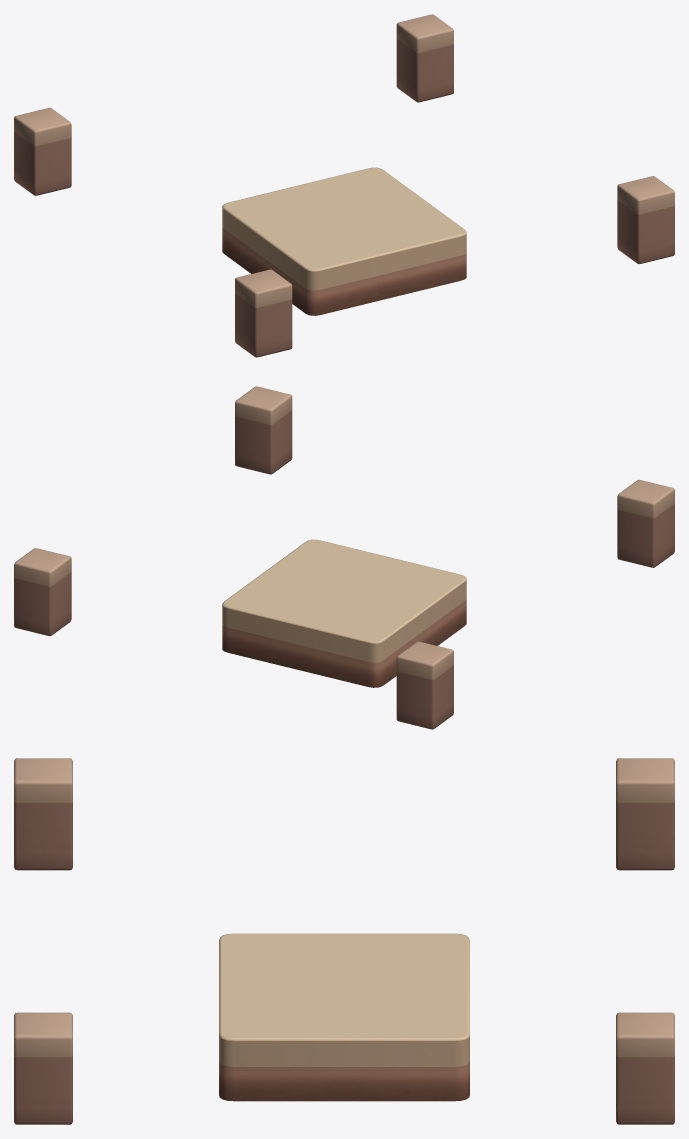
File: Props.fbx
3 views of the same model, one above another, from view 1: azimuth 30°, elevation 25°; view 2: azimuth 150°, elevation 25°; view 3: azimuth 270°, elevation 25° (orthographic). The views are drawn at different scales.
Visible parts, largest first — view 1: Box02, Box03 (1), Box03 (2), Box03, Box03 (3); view 2: Box02, Box03, Box03 (3), Box03 (1), Box03 (2); view 3: Box02, Box03, Box03 (1), Box03 (2), Box03 (3).
Part boxes in pixels (x1,y1,x2,y2): Box02: (222,167,466,315); Box03 (1): (396,14,453,102); Box03 (2): (235,269,292,357); Box03: (617,176,674,263); Box03 (3): (14,108,71,195); Box02: (222,539,466,687); Box03: (235,386,292,474); Box03 (3): (396,641,453,729); Box03 (1): (14,548,71,635); Box03 (2): (617,480,674,567); Box02: (219,933,469,1101); Box03: (14,1012,72,1124); Box03 (1): (616,1012,674,1124); Box03 (2): (14,758,72,870); Box03 (3): (616,758,674,870).
Size of the model in its own units: 25.25 by 6.37 by 25.25.
Materials: 2 (2 with a texture image).
